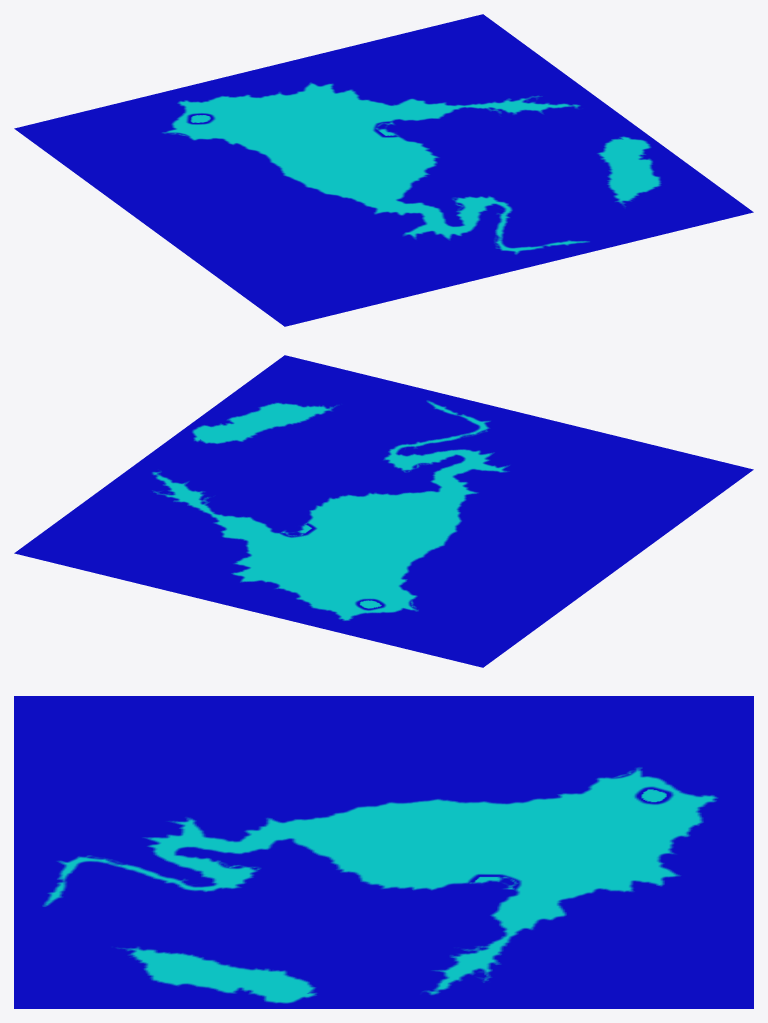
Rendered from Water mesh.fbx.
3 views of the same model, one above another, from view 1: azimuth 30°, elevation 25°; view 2: azimuth 150°, elevation 25°; view 3: azimuth 270°, elevation 25° (orthographic). The views are drawn at different scales.
Visible parts, largest first — view 1: Water_mesh; view 2: Water_mesh; view 3: Water_mesh.
Boxes of the visible parts, left/top/right/bottom form: Water_mesh: left=14, top=14, right=753, bottom=326; Water_mesh: left=14, top=355, right=753, bottom=667; Water_mesh: left=14, top=696, right=753, bottom=1008.
Size of the model in its own units: 75000 by 0 by 75000.
